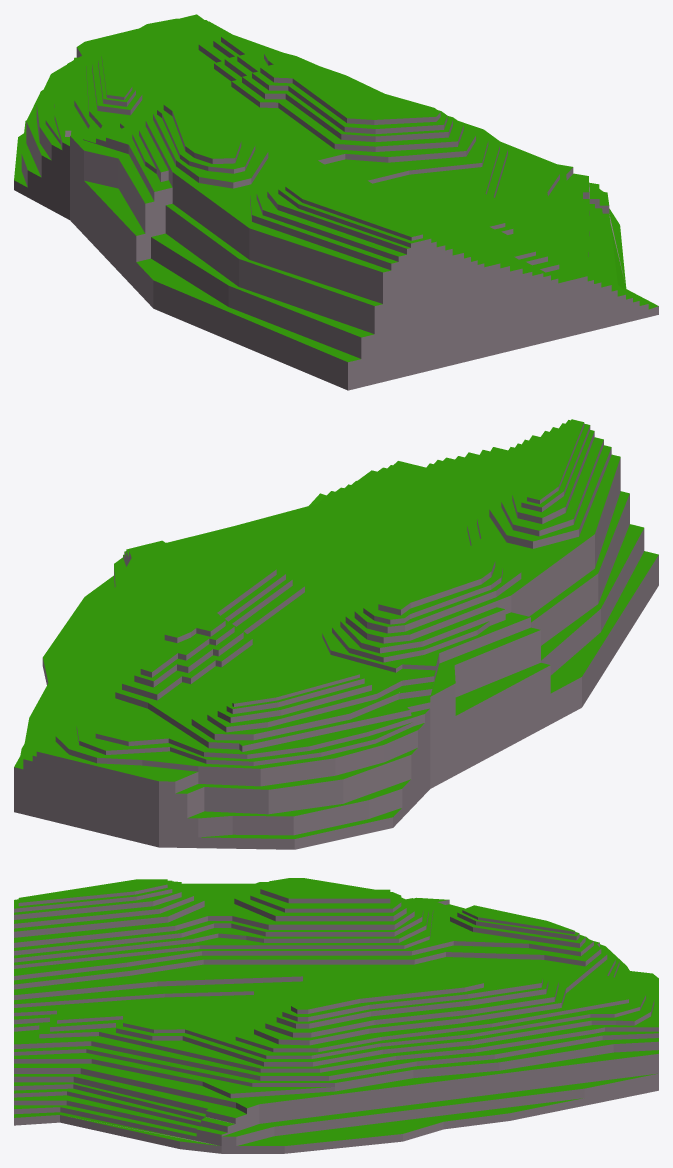
Rendered from level.obj.
The picture shows the model from 3 angles, top to bottom: view 1: azimuth 30°, elevation 25°; view 2: azimuth 150°, elevation 25°; view 3: azimuth 270°, elevation 25°; orthographic projection. The views are drawn at different scales.
Visible parts, largest first — view 1: Level_Untitled; view 2: Level_Untitled; view 3: Level_Untitled.
Part boxes in pixels (x1=…): Level_Untitled: x1=14, y1=14, x2=658, y2=390; Level_Untitled: x1=14, y1=419, x2=658, y2=849; Level_Untitled: x1=14, y1=878, x2=658, y2=1153.
Size of the model in its own units: 196 by 57.96 by 280.
